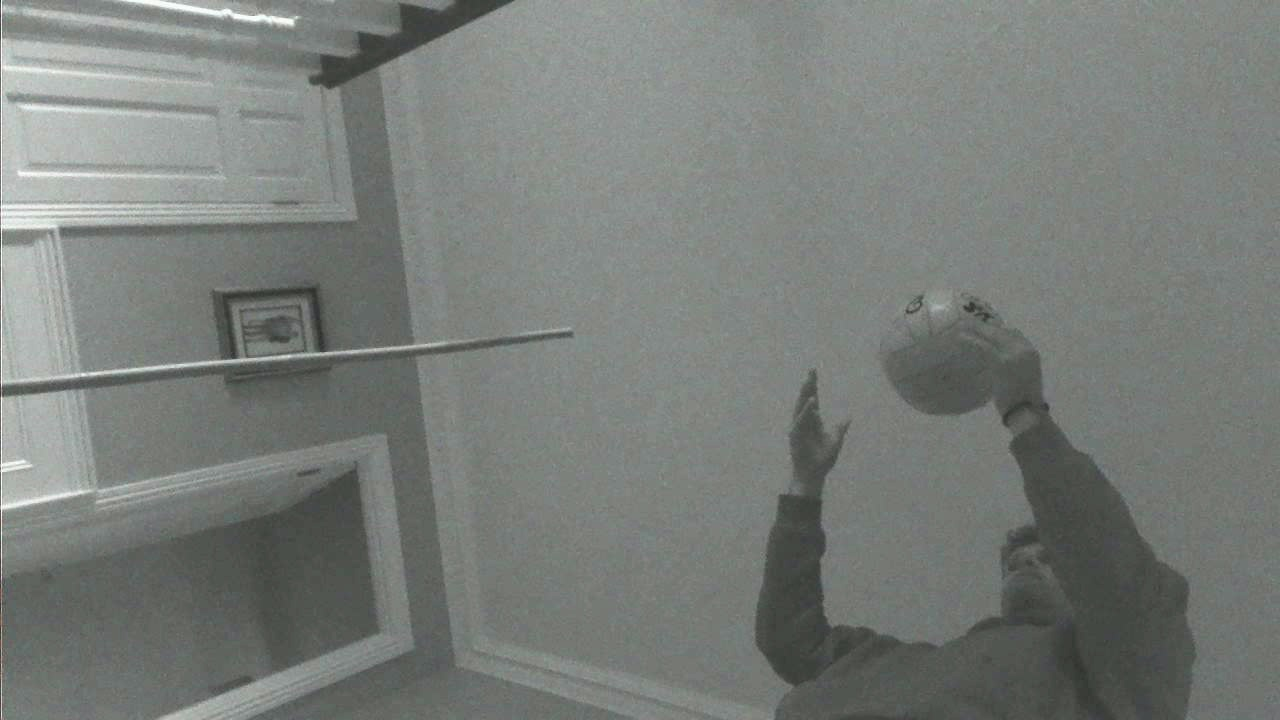Football-Spotter: (878, 289, 1002, 414)
